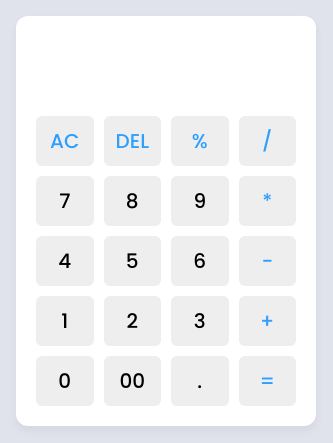
App Component › updates display when number buttons are clicked
Click the button "7": click(65, 201) top-left (36, 176), bottom-right (94, 226)
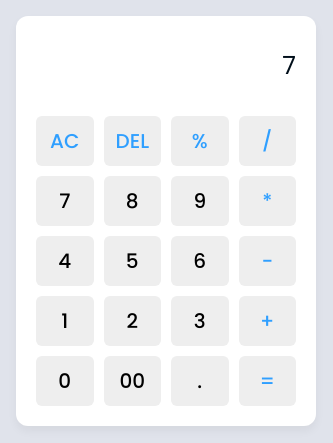
Click the button "8": click(132, 201) top-left (104, 176), bottom-right (161, 226)
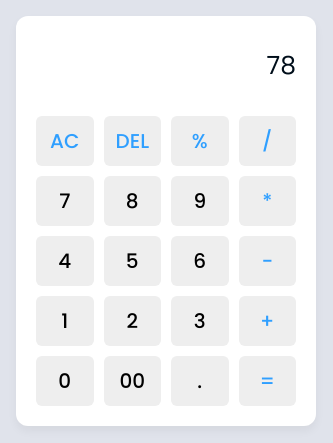
Expected: the field holds "78", top-left (36, 26), bottom-right (296, 106)
